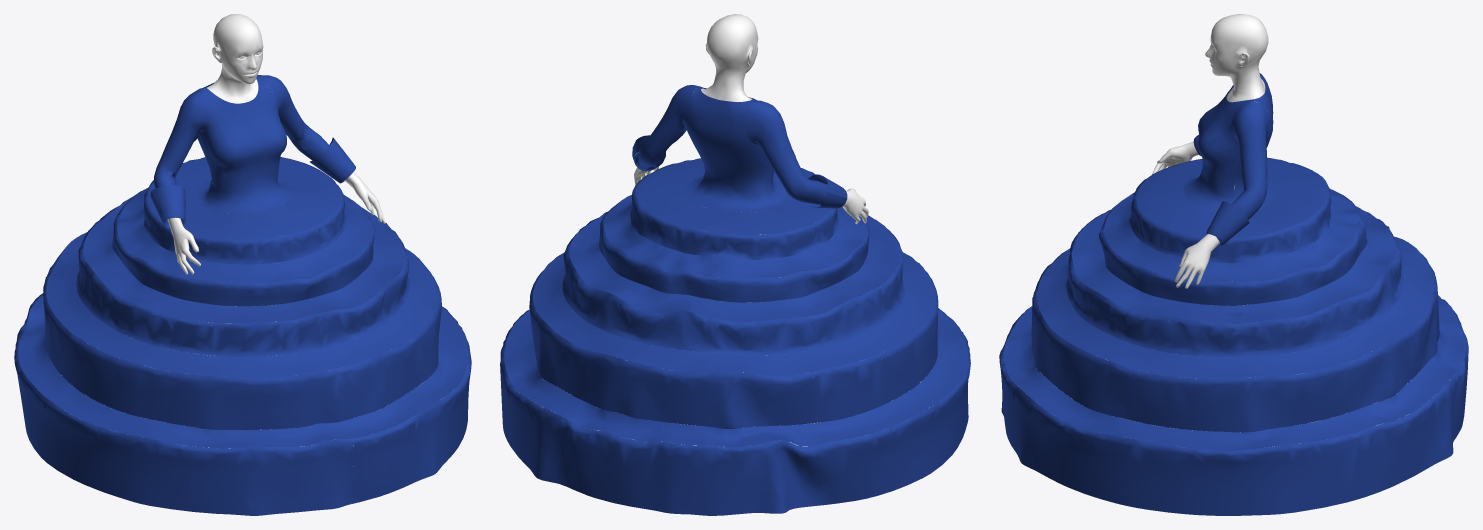
File: walter1.fbx
3 renders of one model, left to right at view 1: azimuth 30°, elevation 25°; view 2: azimuth 150°, elevation 25°; view 3: azimuth 270°, elevation 25°, orthographic. The views are drawn at different scales.
Visible parts, largest first — view 1: Walter1; view 2: Walter1; view 3: Walter1.
Part boxes in pixels (x1=…): Walter1: x1=14, y1=14, x2=471, y2=515; Walter1: x1=500, y1=14, x2=970, y2=515; Walter1: x1=999, y1=14, x2=1468, y2=515.
Size of the model in its own units: 179 by 197 by 181.
